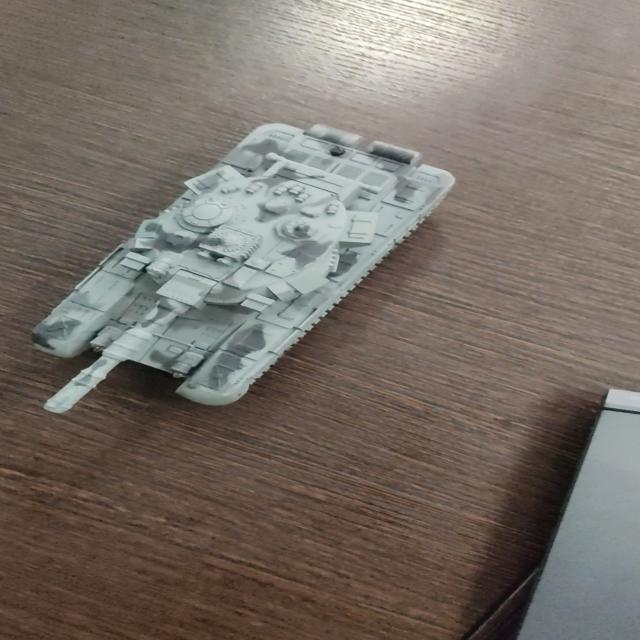tank: (19, 122, 461, 412)
